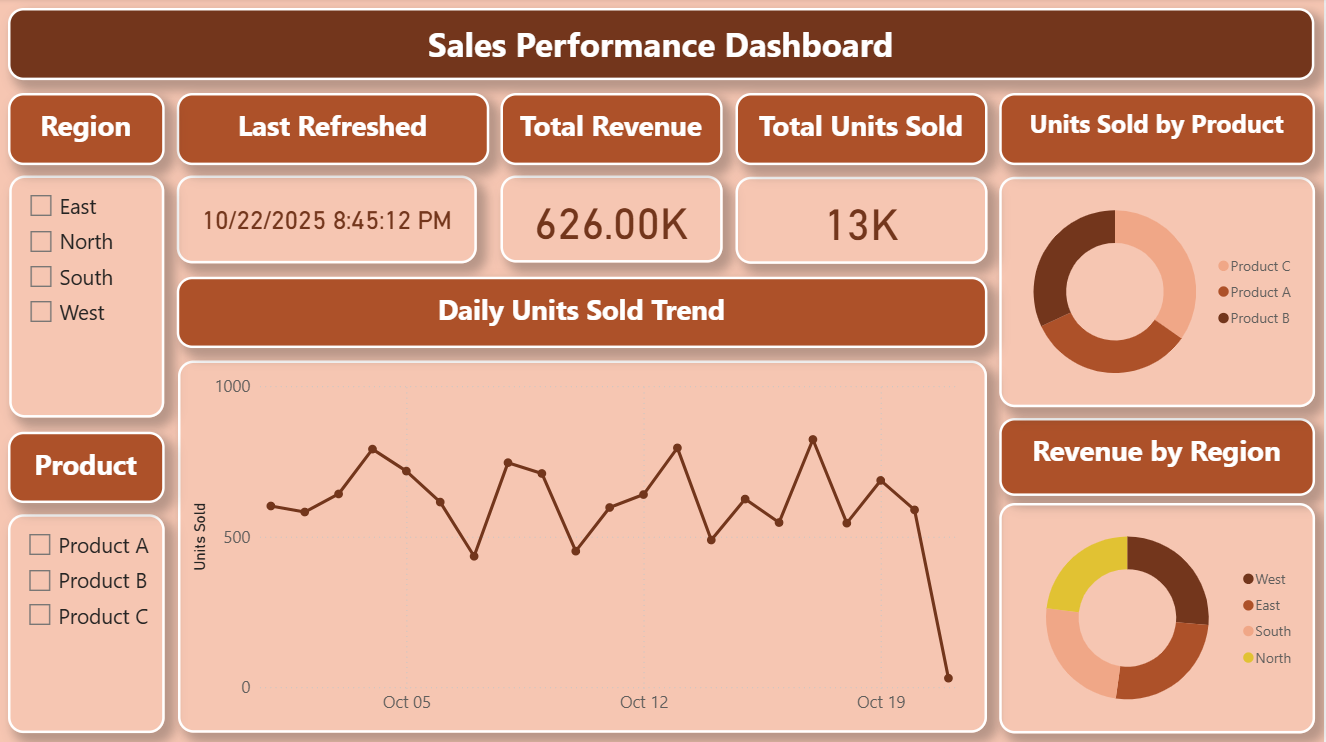

This screenshot's page, from the dashboard's own definition file:
{"tool":"powerbi","page":{"name":"Page 1","canvas":[1280,720],"ordinal":0},"visuals":[{"type":"card","fields":{"Values":["Sheet1.Last_Refreshed"]},"box":[172.9,171.5,289.5,85.1],"z":0},{"type":"textbox","box":[9.6,9.6,1261.1,70],"z":1000},{"type":"textbox","box":[172.9,91.9,301.9,70],"z":2000},{"type":"card","fields":{"Values":["Sheet1.Total_Revenue"]},"box":[484.4,171.5,214.1,83.7],"z":3000},{"type":"card","fields":{"Values":["Sheet1.Total_Units_Sold"]},"box":[712.2,172.9,242.9,83.7],"z":4000},{"type":"textbox","box":[484.4,91.9,214.1,70],"z":5000},{"type":"textbox","box":[712.2,91.9,242.9,70],"z":6000},{"type":"slicer","fields":{"Values":["Sheet1.Region"]},"box":[11,171.5,149.6,233.3],"z":7000},{"type":"slicer","fields":{"Values":["Sheet1.Product"]},"box":[9.6,498.1,150.9,211.3],"z":8000},{"type":"lineChart","fields":{"Y":["Sum(Sheet1.Units Sold)"],"Category":["Sheet1.Date.Variation.Date Hierarchy.Year","Sheet1.Date.Variation.Date Hierarchy.Quarter","Sheet1.Date.Variation.Date Hierarchy.Month","Sheet1.Date.Variation.Date Hierarchy.Day"]},"box":[174.3,349.9,780.8,359.5],"z":9000},{"type":"textbox","box":[9.6,418.5,150.9,68.6],"z":10000},{"type":"textbox","box":[9.6,91.9,150.9,70],"z":11000},{"type":"textbox","box":[172.9,269,782.2,68.6],"z":13000},{"type":"textbox","box":[966,404.8,304.6,75.5],"z":14000},{"type":"donutChart","fields":{"Y":["Sum(Sheet1.Units Sold)"],"Category":["Sheet1.Product"]},"box":[966,172.9,304.6,222.3],"z":15000},{"type":"textbox","box":[966,91.9,304.6,70],"z":16000},{"type":"donutChart","fields":{"Category":["Sheet1.Region"],"Y":["Sum(Sheet1.Revenue)"]},"box":[966,487.1,304.6,222.3],"z":16001}]}

Visuals, with their boxes in screenshot pixels (x1, y1, x2, y2), scaled from the page's 1280x720 canvas onto the 1326x742 screenshot:
card - Sheet1.Last_Refreshed: detection(179, 177, 479, 264)
textbox: detection(10, 10, 1316, 82)
textbox: detection(179, 95, 492, 167)
card - Sheet1.Total_Revenue: detection(502, 177, 724, 263)
card - Sheet1.Total_Units_Sold: detection(738, 178, 989, 264)
textbox: detection(502, 95, 724, 167)
textbox: detection(738, 95, 989, 167)
slicer - Sheet1.Region: detection(11, 177, 166, 417)
slicer - Sheet1.Product: detection(10, 513, 166, 731)
lineChart - Sum(Sheet1.Units Sold) x Sheet1.Date.Variation.Date Hierarchy.Year: detection(181, 361, 989, 731)
textbox: detection(10, 431, 166, 502)
textbox: detection(10, 95, 166, 167)
textbox: detection(179, 277, 989, 348)
textbox: detection(1001, 417, 1316, 495)
donutChart - Sum(Sheet1.Units Sold) x Sheet1.Product: detection(1001, 178, 1316, 407)
textbox: detection(1001, 95, 1316, 167)
donutChart - Sheet1.Region x Sum(Sheet1.Revenue): detection(1001, 502, 1316, 731)
